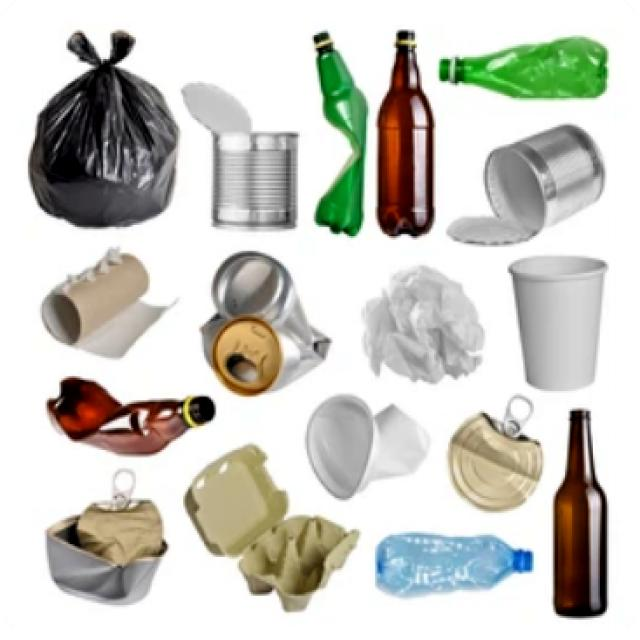Glass: (551, 406, 612, 619)
Metal: (196, 251, 333, 395), (485, 121, 611, 229), (208, 121, 304, 238), (450, 408, 542, 514)
Plastic: (44, 374, 218, 459), (306, 29, 372, 237), (436, 33, 610, 102), (373, 532, 536, 602)
Trash: (26, 55, 180, 229), (508, 252, 608, 390), (306, 394, 428, 503)
